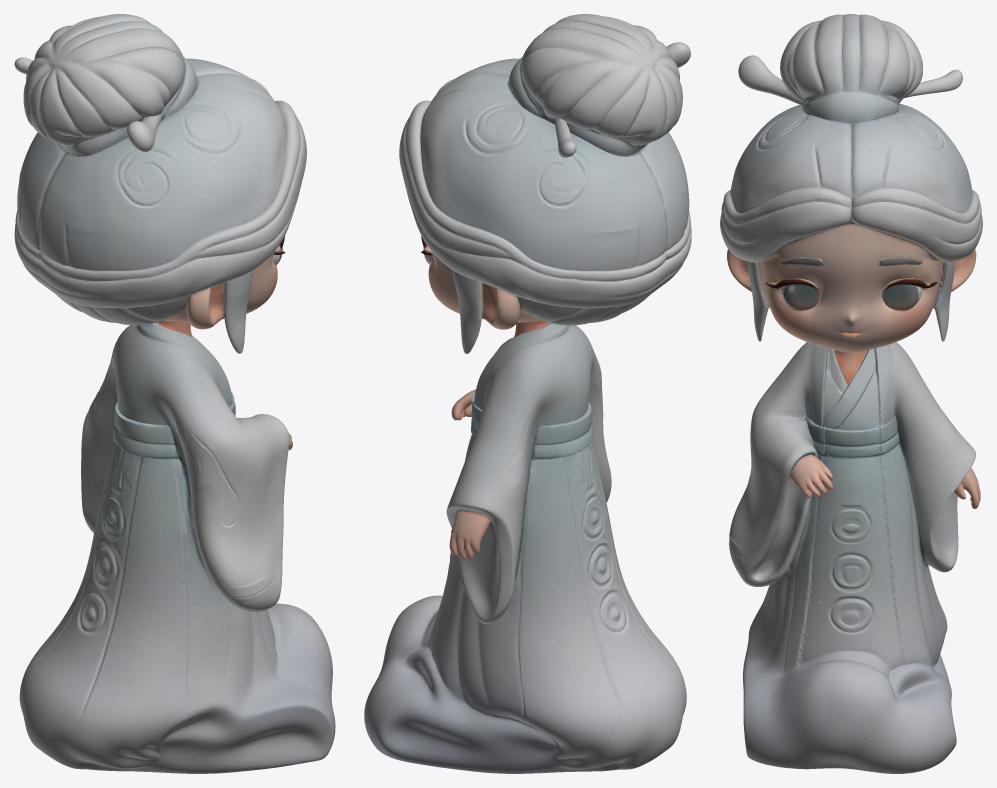
Rendered from 4_soft.glb.
3 renders of one model, left to right at view 1: azimuth 30°, elevation 25°; view 2: azimuth 150°, elevation 25°; view 3: azimuth 270°, elevation 25°, orthographic. The views are drawn at different scales.
Visible parts, largest first — view 1: tripo_node_c5a6ffe5-5eb2-4f56-bd40-45cf015caf39; view 2: tripo_node_c5a6ffe5-5eb2-4f56-bd40-45cf015caf39; view 3: tripo_node_c5a6ffe5-5eb2-4f56-bd40-45cf015caf39.
Boxes of the visible parts, x1,y1,x2,y2 form: tripo_node_c5a6ffe5-5eb2-4f56-bd40-45cf015caf39: (14,14,335,773); tripo_node_c5a6ffe5-5eb2-4f56-bd40-45cf015caf39: (364,14,691,773); tripo_node_c5a6ffe5-5eb2-4f56-bd40-45cf015caf39: (720,14,982,773).
Size of the model in its own units: 0.4064 by 0.9999 by 0.3577.
Materials: 1 (1 with a texture image).
